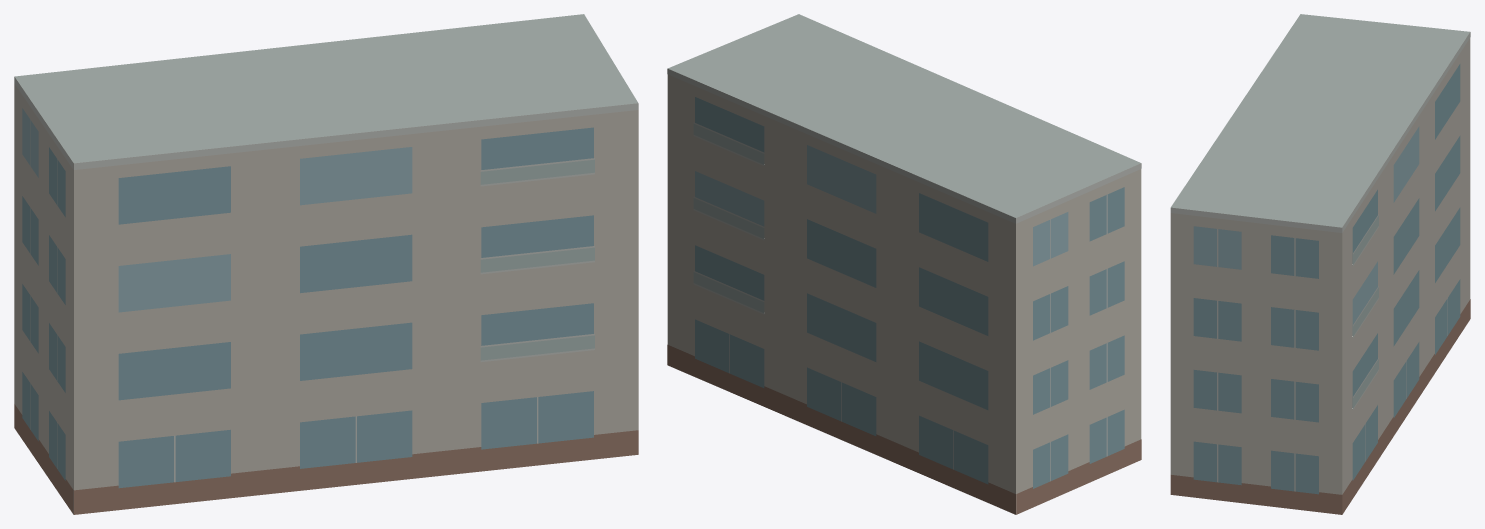
Rendered from survey-upis-32702555.glb.
The picture shows the model from 3 angles, left to right: view 1: azimuth 30°, elevation 25°; view 2: azimuth 150°, elevation 25°; view 3: azimuth 270°, elevation 25°; orthographic projection. The views are drawn at different scales.
Visible parts, largest first — view 1: survey-upis-32702555.tmp; view 2: survey-upis-32702555.tmp; view 3: survey-upis-32702555.tmp.
Boxes of the visible parts, x1=… form: survey-upis-32702555.tmp: x1=14, y1=14, x2=638, y2=514; survey-upis-32702555.tmp: x1=667, y1=14, x2=1141, y2=514; survey-upis-32702555.tmp: x1=1170, y1=14, x2=1470, y2=514.
Bounding box in the file's own units: 20.43 × 12.8 × 12.12.
